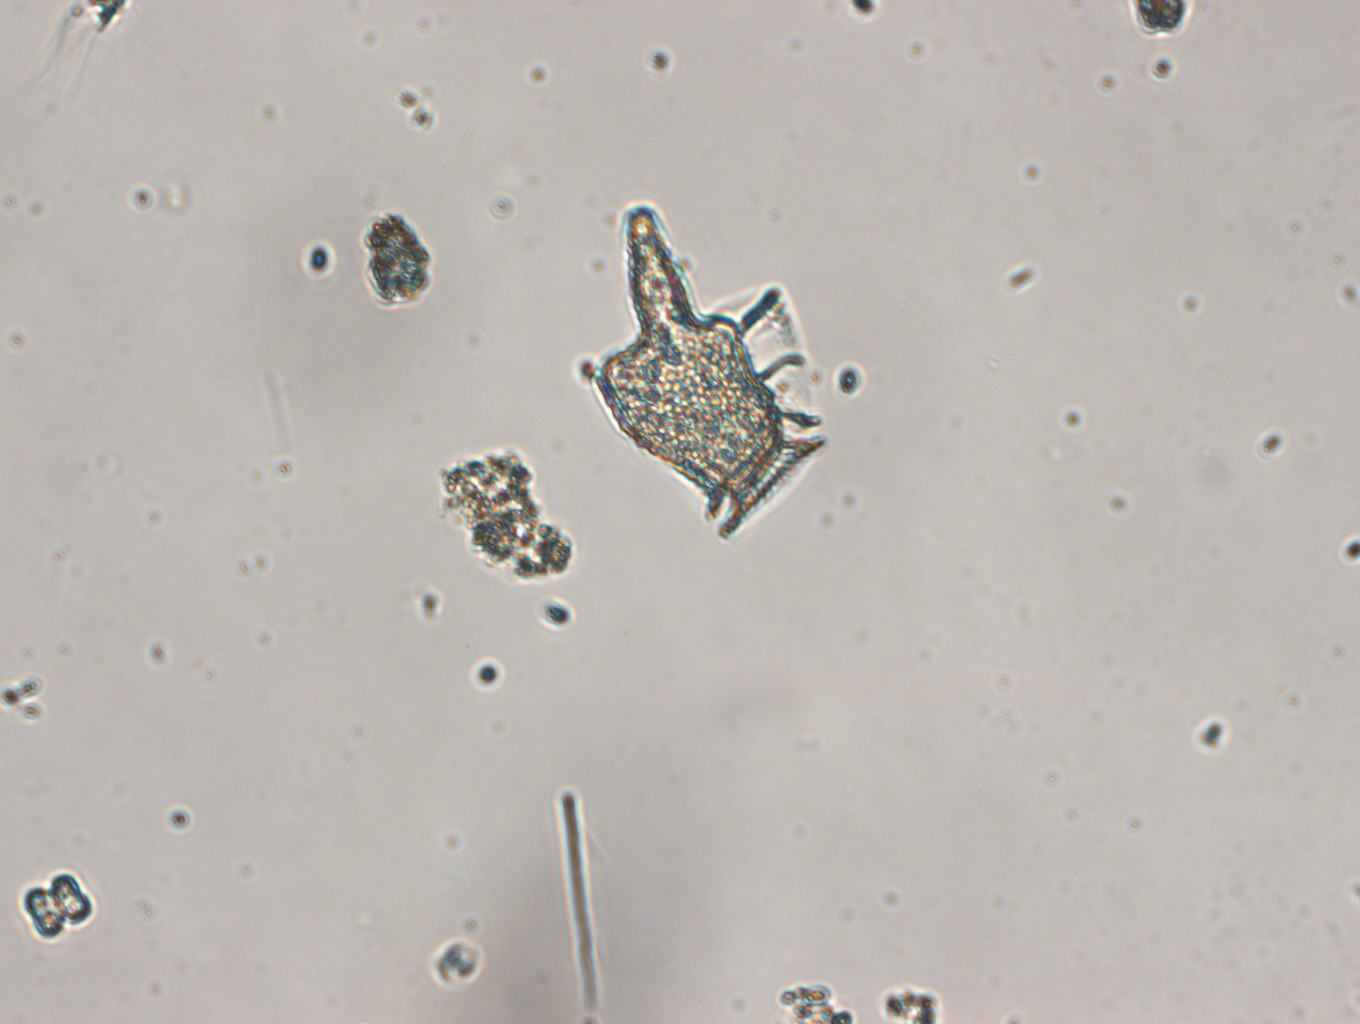dinophysis caudata: (590, 205, 831, 546)
